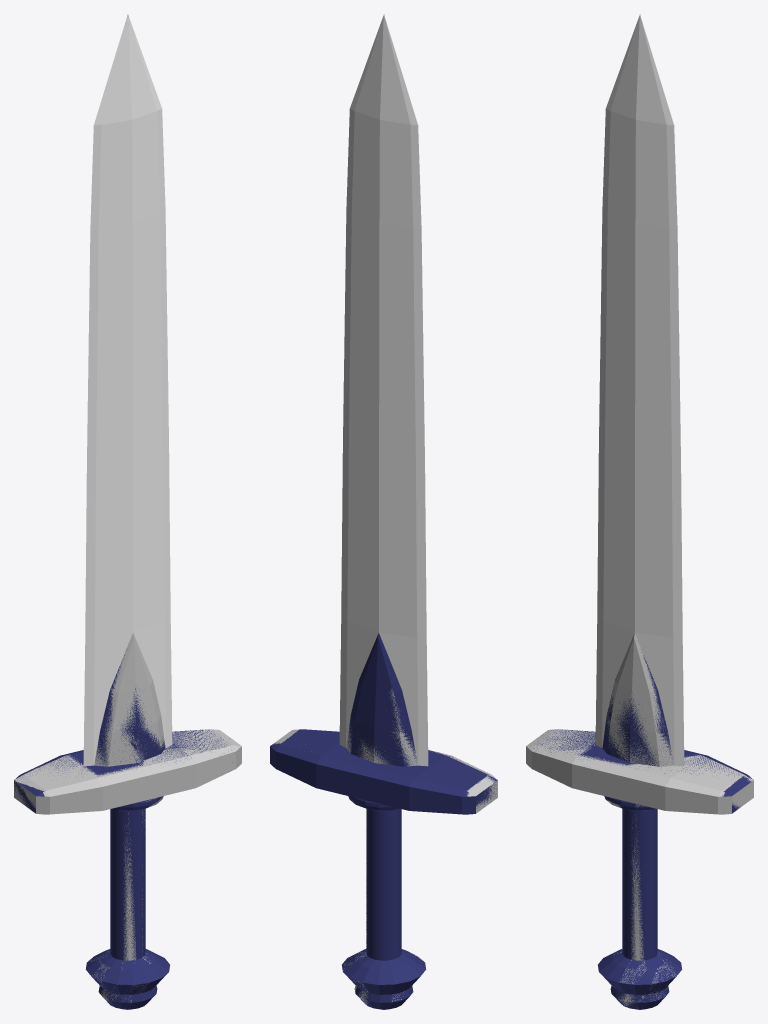
Rendered from NewSword.fbx.
3 renders of one model, left to right at view 1: azimuth 30°, elevation 25°; view 2: azimuth 150°, elevation 25°; view 3: azimuth 330°, elevation 25°, orthographic.
Visible parts, largest first — view 1: 立方体.002, Sword, 立方体.003, 円柱.001; view 2: Sword, 立方体.002, 立方体.003; view 3: 立方体.002, Sword, 立方体.003, 円柱.001.
Boxes of the visible parts, x1,y1,x2,y2 form: 立方体.002: [84, 15, 172, 766]; Sword: [14, 14, 232, 1009]; 立方体.003: [14, 729, 241, 814]; 円柱.001: [88, 797, 162, 1009]; Sword: [270, 14, 497, 1009]; 立方体.002: [339, 689, 425, 766]; 立方体.003: [273, 729, 497, 813]; 立方体.002: [596, 15, 684, 766]; Sword: [534, 14, 753, 1009]; 立方体.003: [526, 729, 753, 814]; 円柱.001: [607, 800, 675, 1007].
Bounding box in the file's own units: 19.58 × 90.55 × 7.02.
